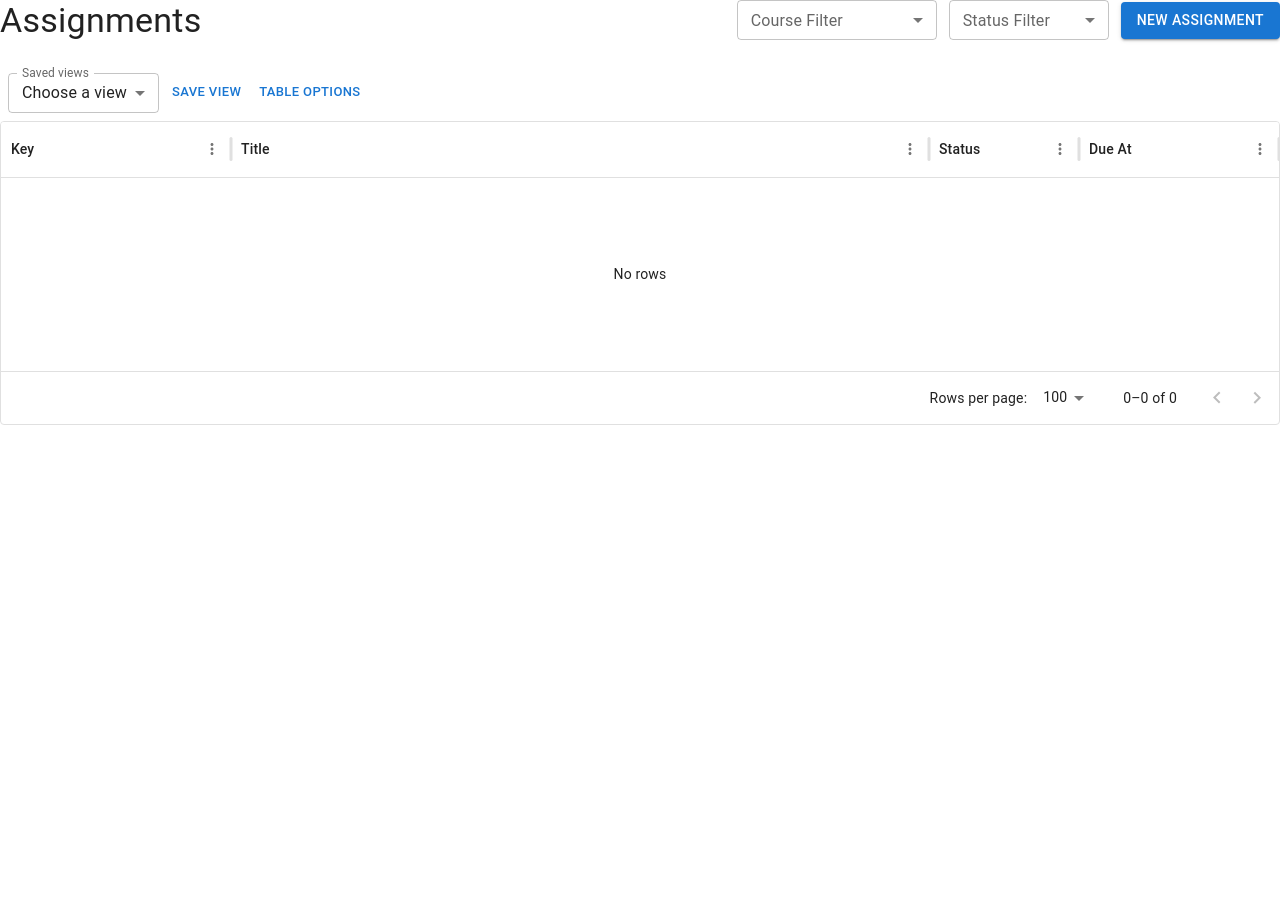
Test: the instructor pages › opens the new assignment dialog without accessibility violations
Click the button "New Assignment" at (1200, 20), box left=1121, top=2, right=1279, bottom=39
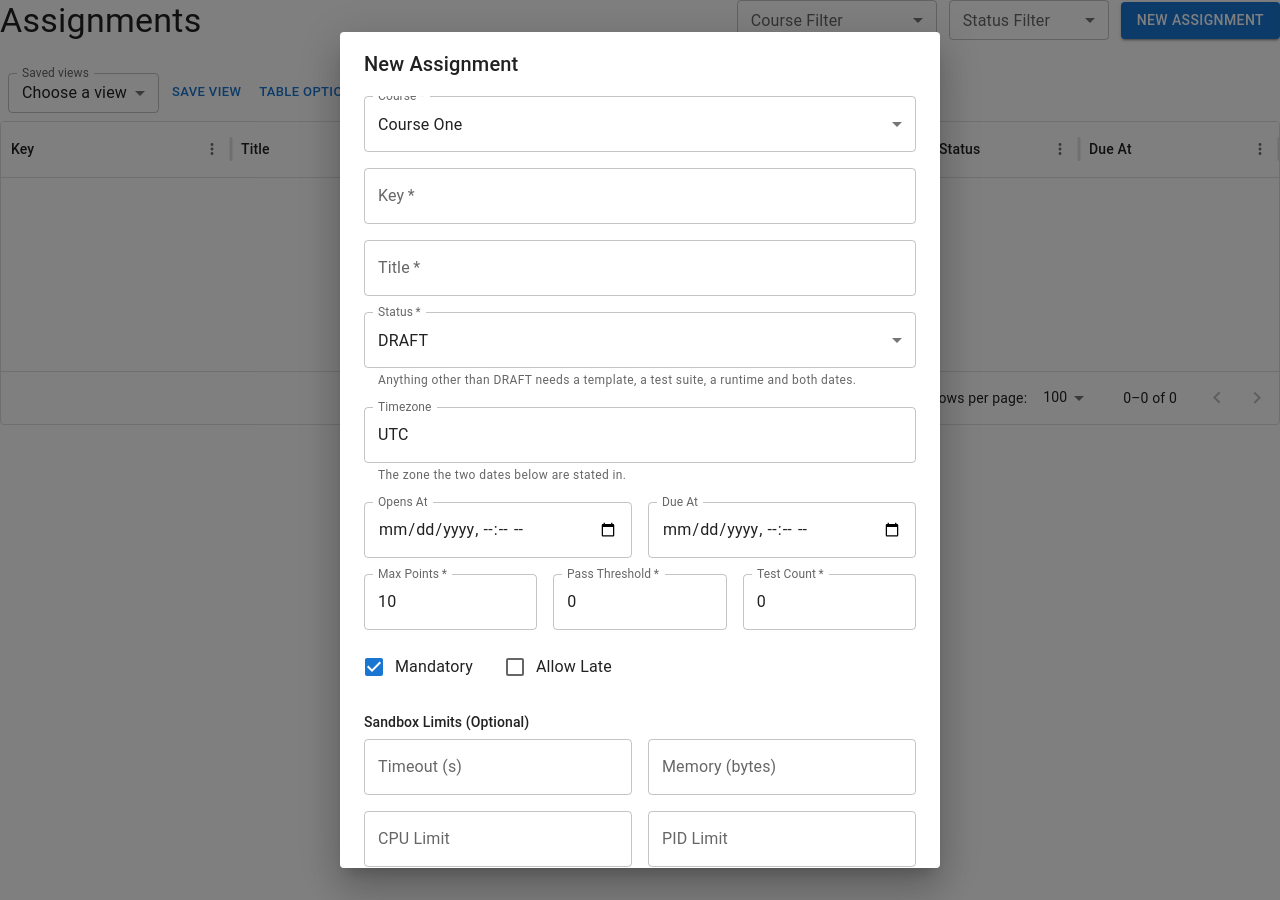
Expected: the dialog is shown, left=340, top=32, right=940, bottom=868
